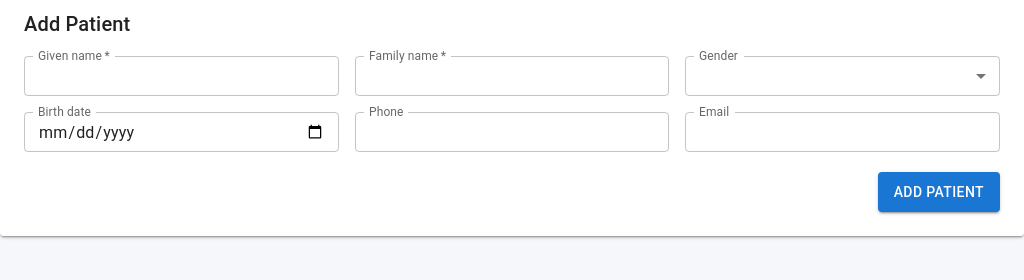
Scenario: PatientForm › blocks submit when email is empty and shows inline error
The width and height of the screenshot is (1024, 280).
Click the button "Add Patient".
click(939, 192)  # box [878, 172, 1000, 212]
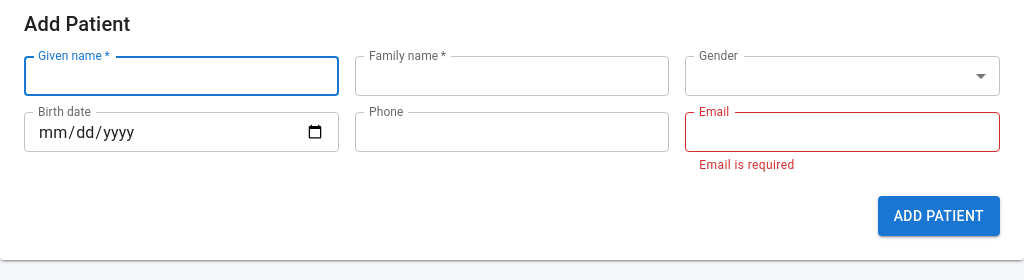
Check: the text "Email is required" is shown, box [699, 158, 795, 172]
